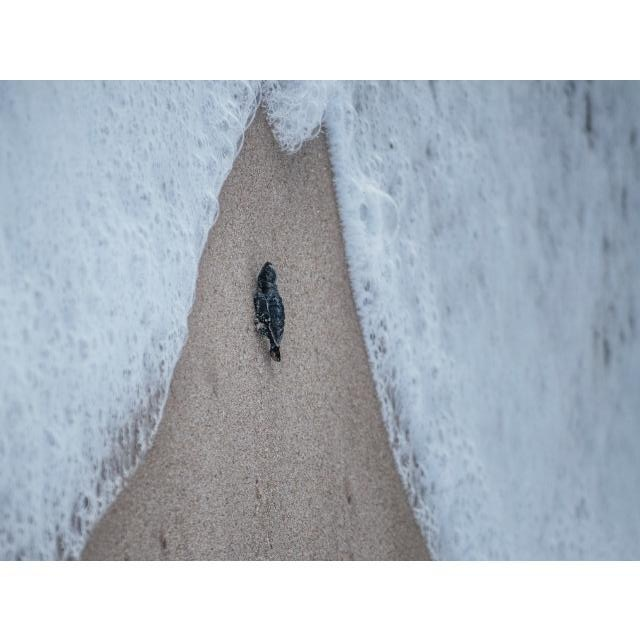turtle: (251, 261, 287, 367)
